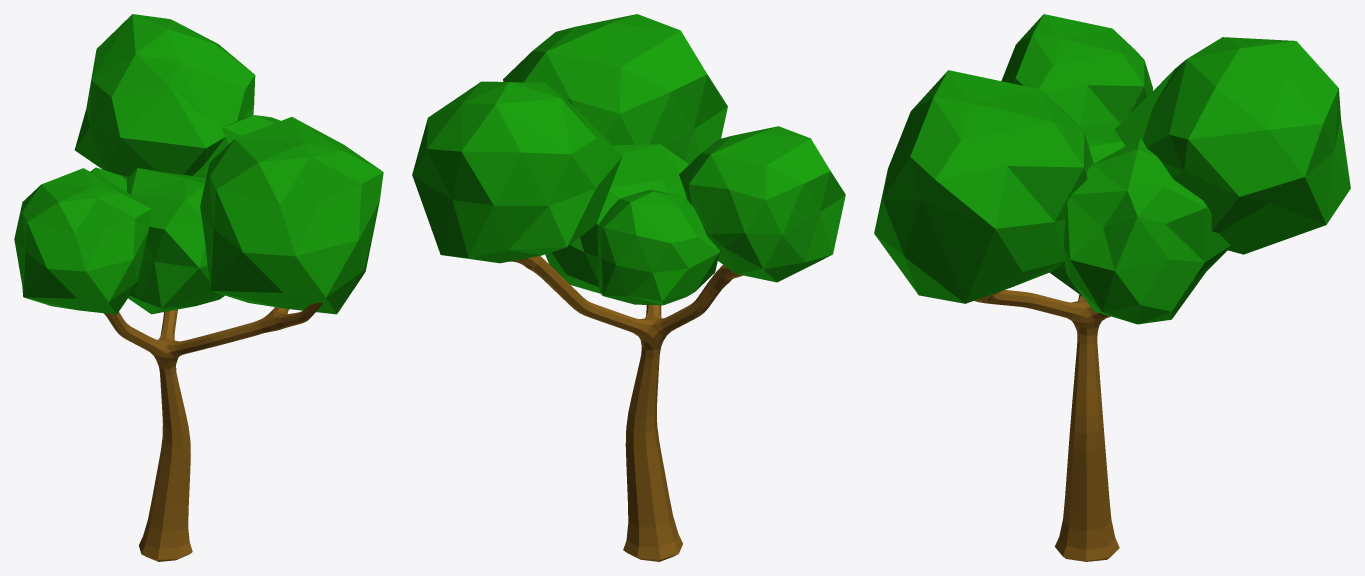
The model's file is Tree2.fbx.
The picture shows the model from 3 angles, left to right: view 1: azimuth 30°, elevation 25°; view 2: azimuth 150°, elevation 25°; view 3: azimuth 270°, elevation 25°; orthographic projection. The views are drawn at different scales.
Parts seen in each view (by area): view 1: Icosphere.001; view 2: Icosphere.001; view 3: Icosphere.001.
Boxes of the visible parts, box(x1,y1,x2,y2) form: Icosphere.001: box(14, 14, 383, 561); Icosphere.001: box(412, 14, 845, 561); Icosphere.001: box(874, 14, 1350, 561).
Bounding box in the file's own units: 903 × 1194 × 949.
